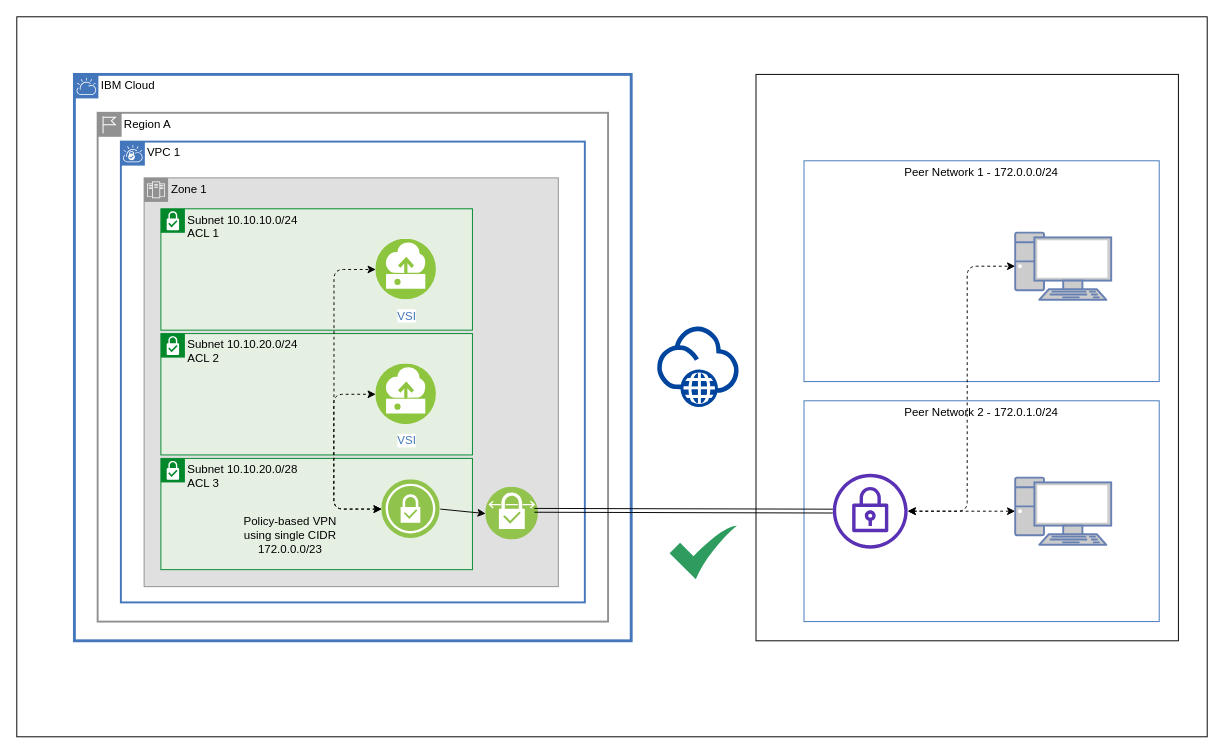
This 1224x754 diagram has some shape labels left out. Here are the shapes that lost their labels. From the top down, the centre of each, then its label:
[698,367]: Internet
[410,508]: Policy-based VPN
[511,513]: Connection 1
[869,510]: Route-based VPN
